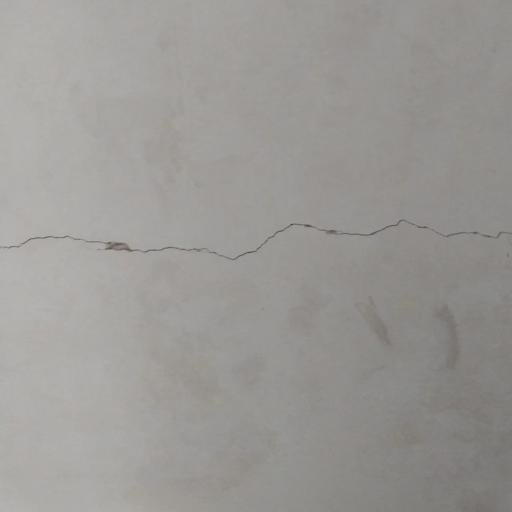minor_crack: (0, 201, 512, 274)
